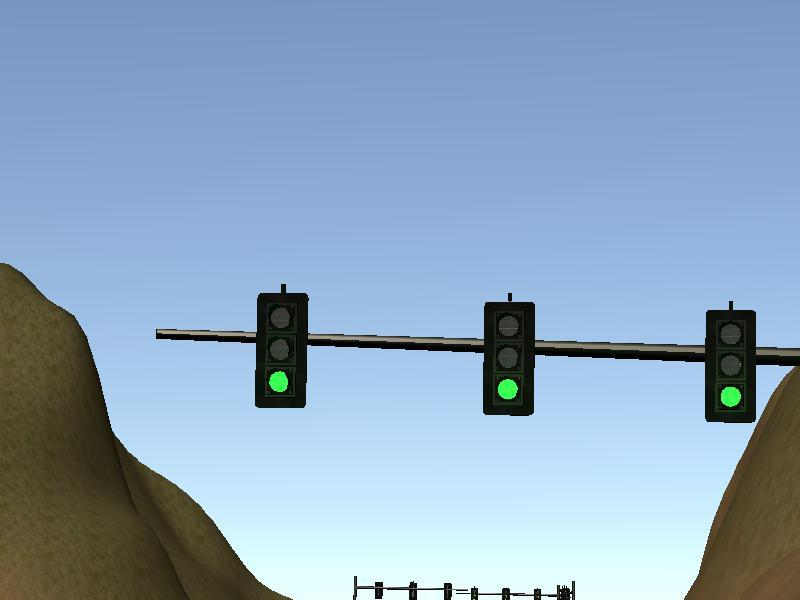Green: (255, 292, 309, 408), (481, 300, 535, 416), (703, 309, 757, 425)
